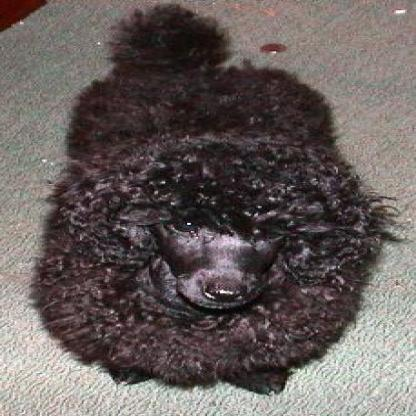miniature_poodle: (27, 8, 398, 396)
